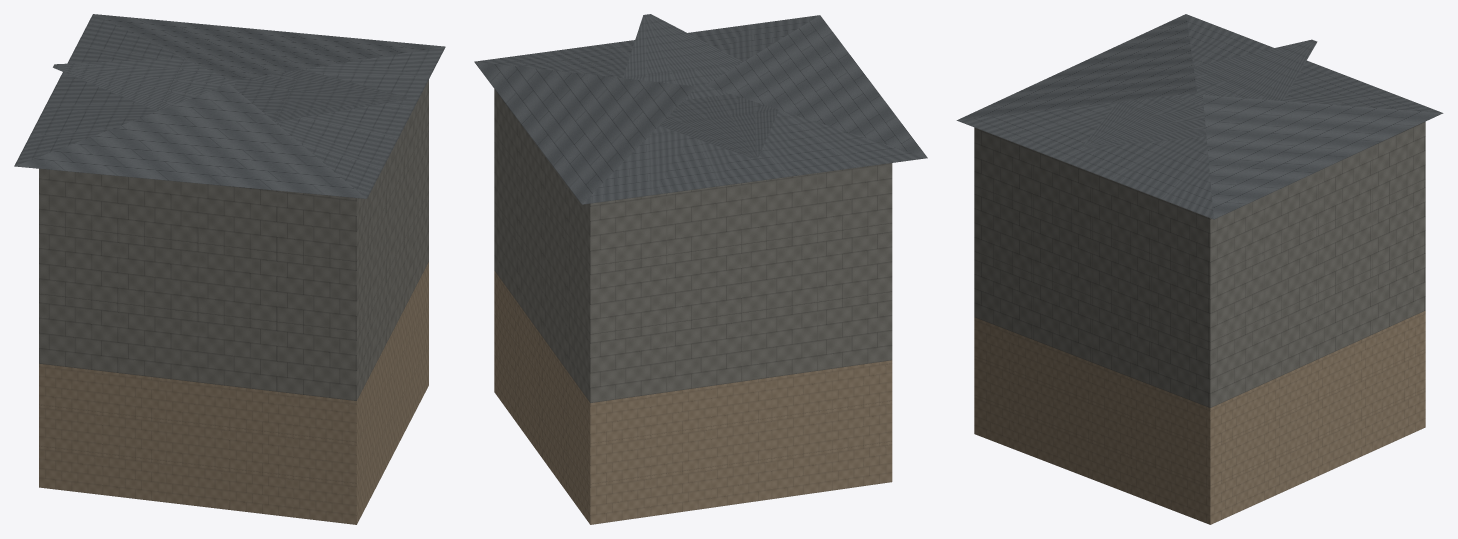
Rendered from bld_c11_8_518.gltf.
3 renders of one model, left to right at view 1: azimuth 30°, elevation 25°; view 2: azimuth 150°, elevation 25°; view 3: azimuth 270°, elevation 25°, orthographic. The views are drawn at different scales.
Parts seen in each view (by area): view 1: bld_c11_8_518; view 2: bld_c11_8_518; view 3: bld_c11_8_518.
Part boxes in pixels (x1=…): bld_c11_8_518: x1=14, y1=14, x2=445, y2=524; bld_c11_8_518: x1=474, y1=14, x2=927, y2=524; bld_c11_8_518: x1=956, y1=14, x2=1443, y2=524.
Bounding box in the file's own units: 19.25 × 14.7 × 19.27.
Materials: 3 (3 with a texture image).
